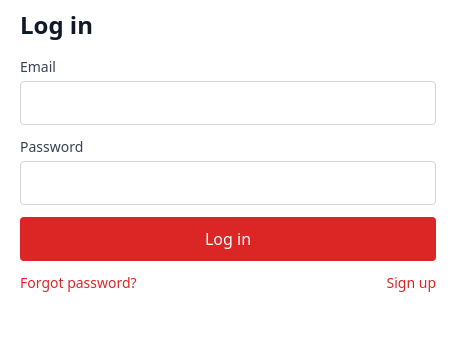
Test: Auth › login form requires fields
The image size is (457, 357).
Click the button "Log in" at [228, 239], box top-left (20, 217), bottom-right (436, 261)
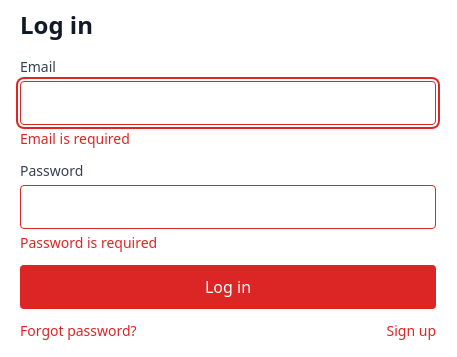
Expected: the text "Email is required" is shown, top-left (20, 129), bottom-right (130, 148)
